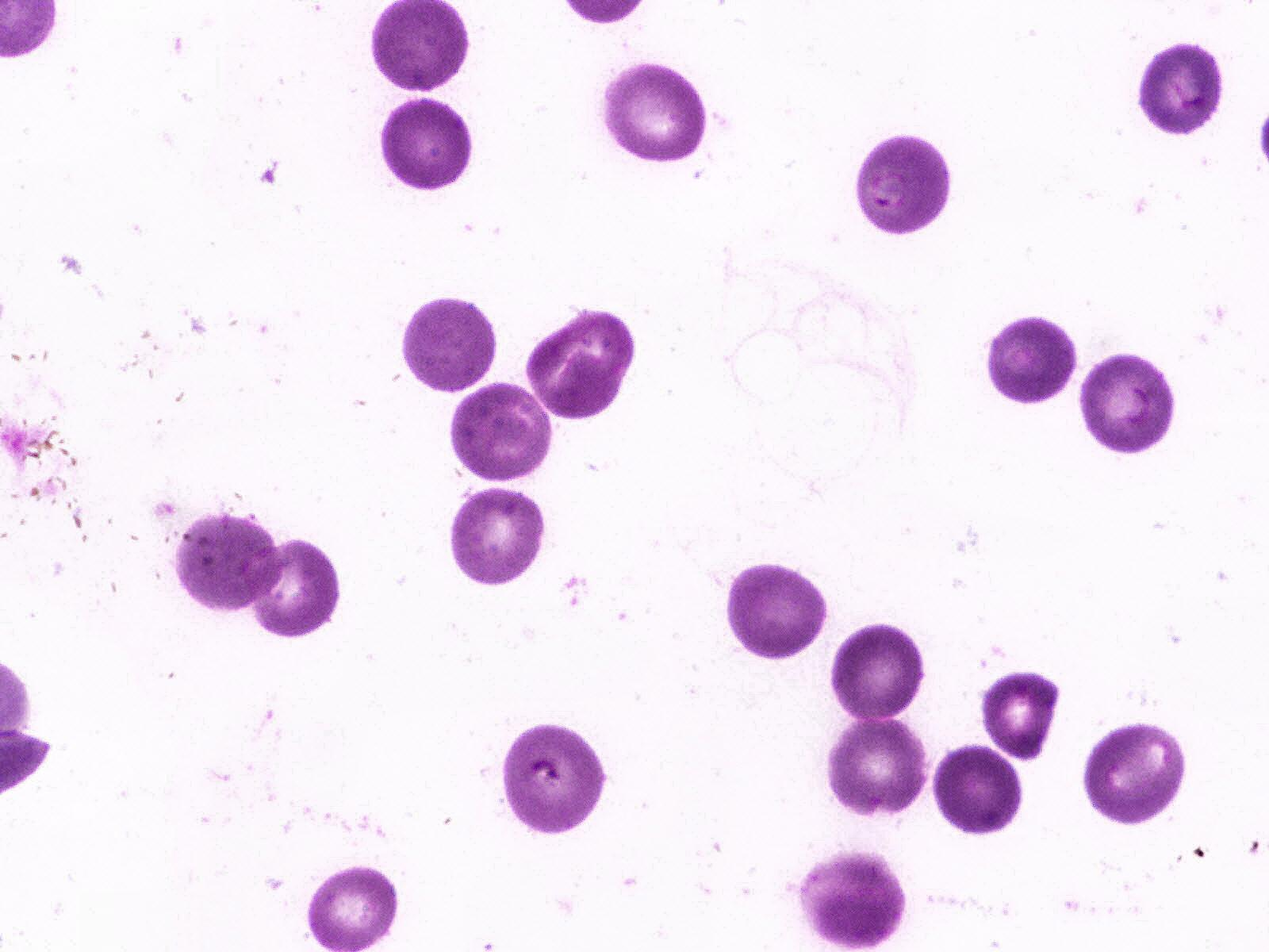Uninfected: (171, 502, 286, 622), (519, 310, 631, 427), (499, 720, 607, 841), (446, 375, 556, 488), (599, 59, 711, 169), (720, 556, 831, 665), (236, 534, 344, 643), (440, 481, 549, 588), (1083, 720, 1187, 831), (826, 709, 930, 820), (853, 128, 954, 240), (825, 618, 928, 727), (399, 288, 500, 398), (797, 846, 908, 946), (376, 90, 477, 198), (1076, 349, 1176, 456), (930, 738, 1026, 837), (983, 311, 1079, 407), (1136, 40, 1227, 136), (982, 667, 1063, 763)
